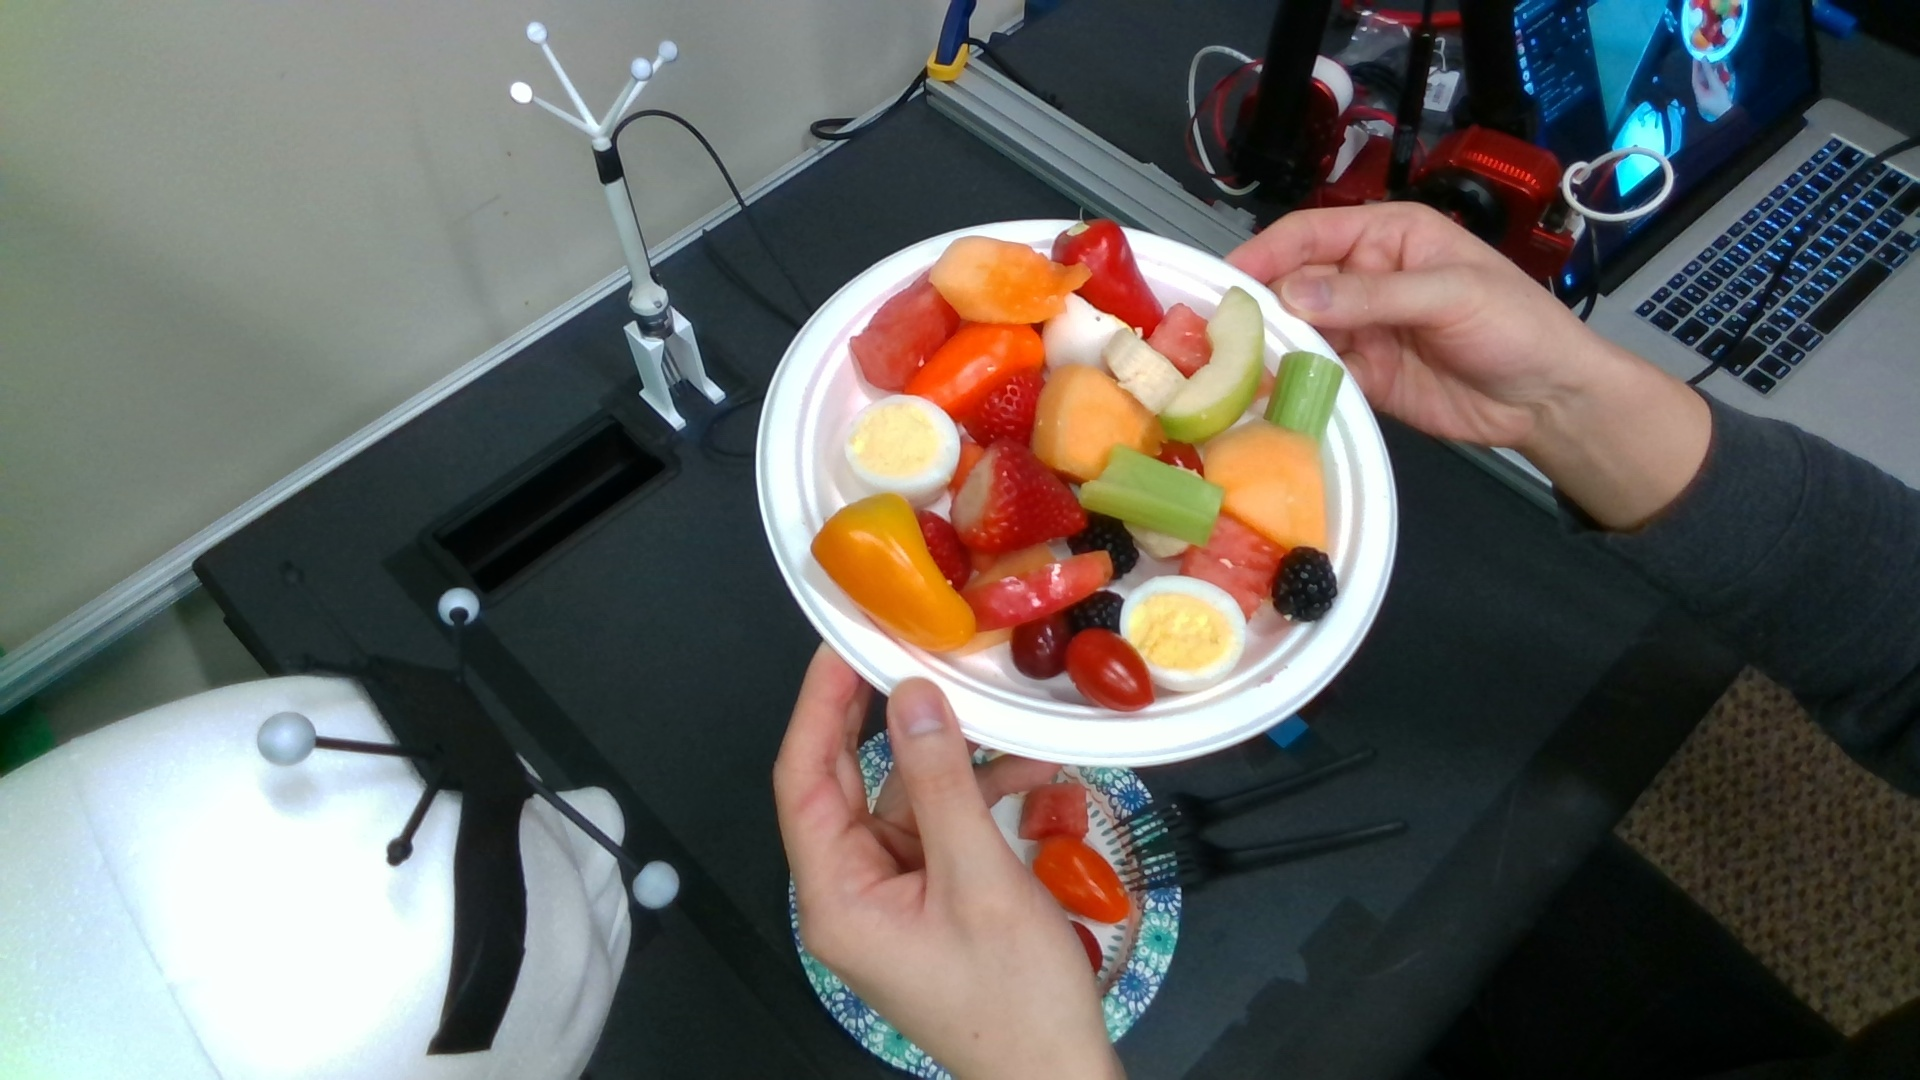apple: (1163, 286, 1265, 440), (960, 542, 1110, 629)
banana: (1102, 328, 1183, 415)
bell pepper: (812, 493, 975, 651), (1052, 218, 1164, 334), (907, 322, 1040, 415), (1033, 837, 1131, 924)
blackberry: (1273, 547, 1335, 621)
cantalope: (1205, 419, 1327, 550), (1033, 367, 1159, 479), (934, 236, 1091, 324)
celery: (1081, 443, 1224, 546), (1267, 353, 1344, 440)
cherry tomato: (1064, 628, 1154, 709)
egg: (1120, 574, 1246, 694), (843, 396, 957, 505)
grape: (1014, 618, 1062, 676)
melon: (851, 270, 960, 386), (1023, 783, 1087, 840)
plate: (758, 219, 1394, 764)
strawberry: (948, 442, 1087, 564)
